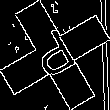P_SE: (26, 24, 84, 86)
